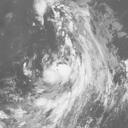cyclone: (34, 4, 90, 108)
